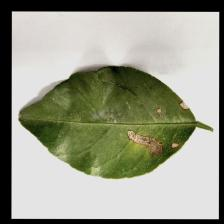canker: (49, 89, 195, 171)
